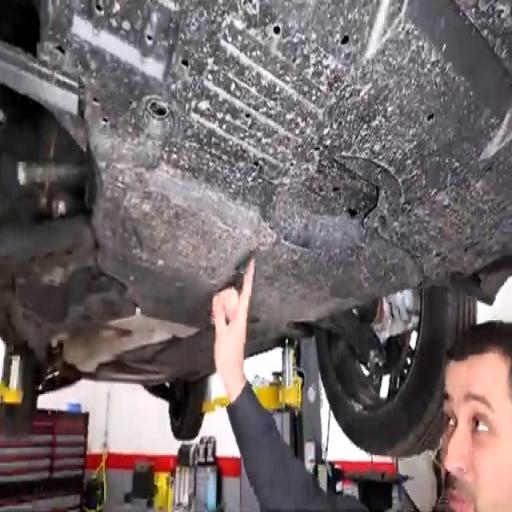tire: (316, 286, 476, 456), (0, 346, 39, 436), (168, 379, 207, 440)
wheel: (316, 288, 476, 456), (0, 346, 39, 436)
